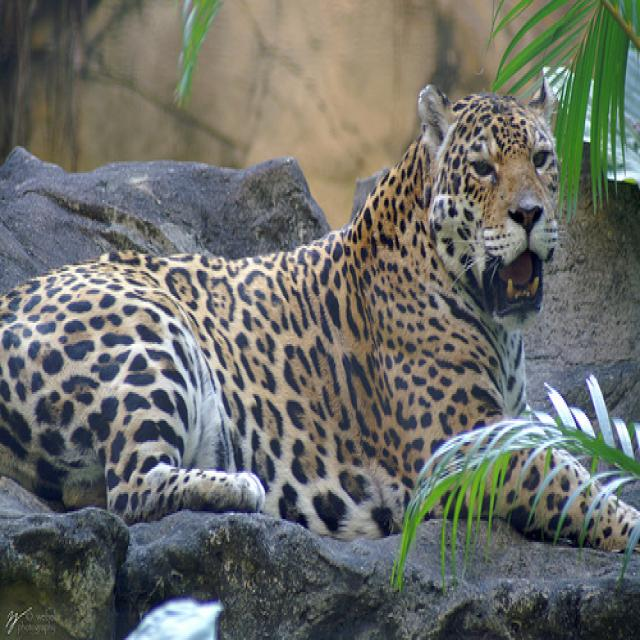Leopard: (0, 78, 637, 551)
